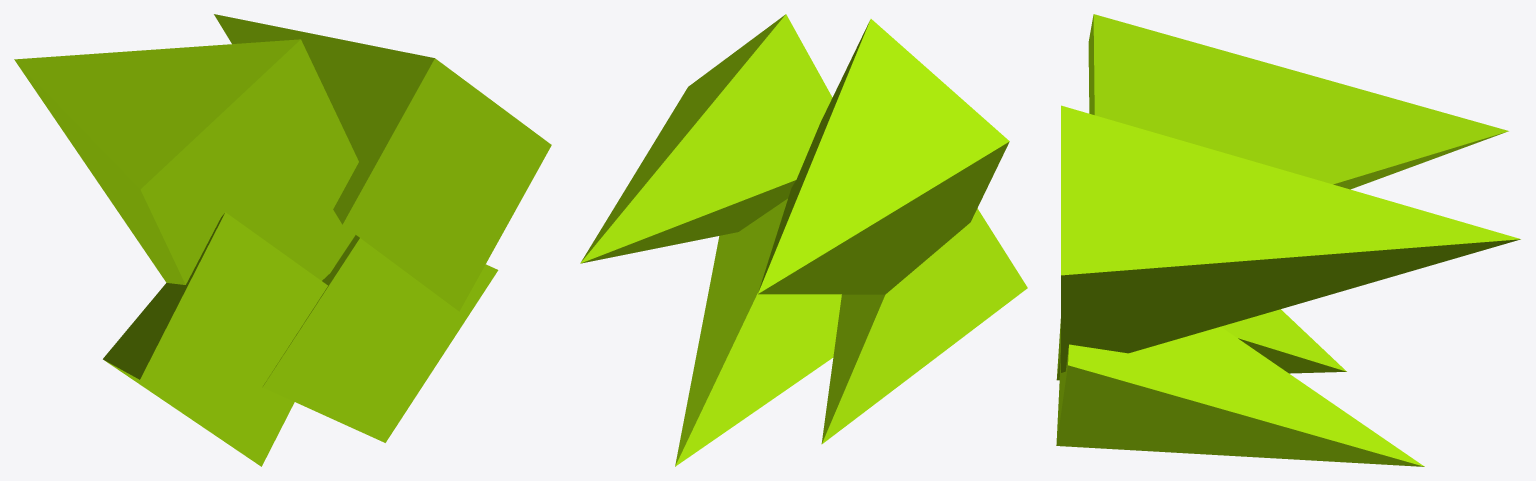
File: LineGrass.fbx
3 renders of one model, left to right at view 1: azimuth 30°, elevation 25°; view 2: azimuth 150°, elevation 25°; view 3: azimuth 270°, elevation 25°, orthographic. The views are drawn at different scales.
Visible parts, largest first — view 1: LineGrass; view 2: LineGrass; view 3: LineGrass.
Part boxes in pixels (<box>): LineGrass: <box>14,14,551,466</box>; LineGrass: <box>580,14,1027,466</box>; LineGrass: <box>1056,14,1520,466</box>.
Size of the model in its own units: 0.2 by 0.2 by 0.2.
